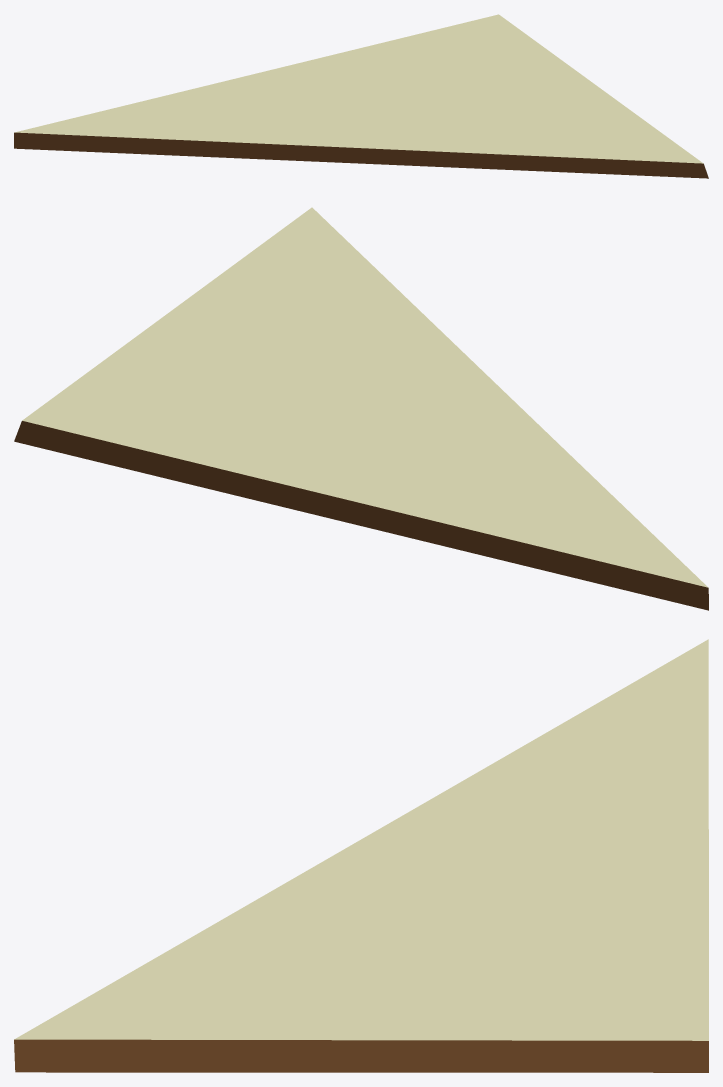
Rendered from splitLogRoofSmallCornerLeftLowContent.glb.
The picture shows the model from 3 angles, top to bottom: view 1: azimuth 30°, elevation 25°; view 2: azimuth 150°, elevation 25°; view 3: azimuth 270°, elevation 25°; orthographic projection. The views are drawn at different scales.
Parts seen in each view (by area): view 1: Cylinder; view 2: Cylinder; view 3: Cylinder.
Part boxes in pixels (x1=…): Cylinder: x1=14, y1=14, x2=708, y2=178; Cylinder: x1=14, y1=207, x2=708, y2=610; Cylinder: x1=14, y1=639, x2=708, y2=1072.
Bounding box in the file's own units: 3 × 0.0987 × 2.17.
